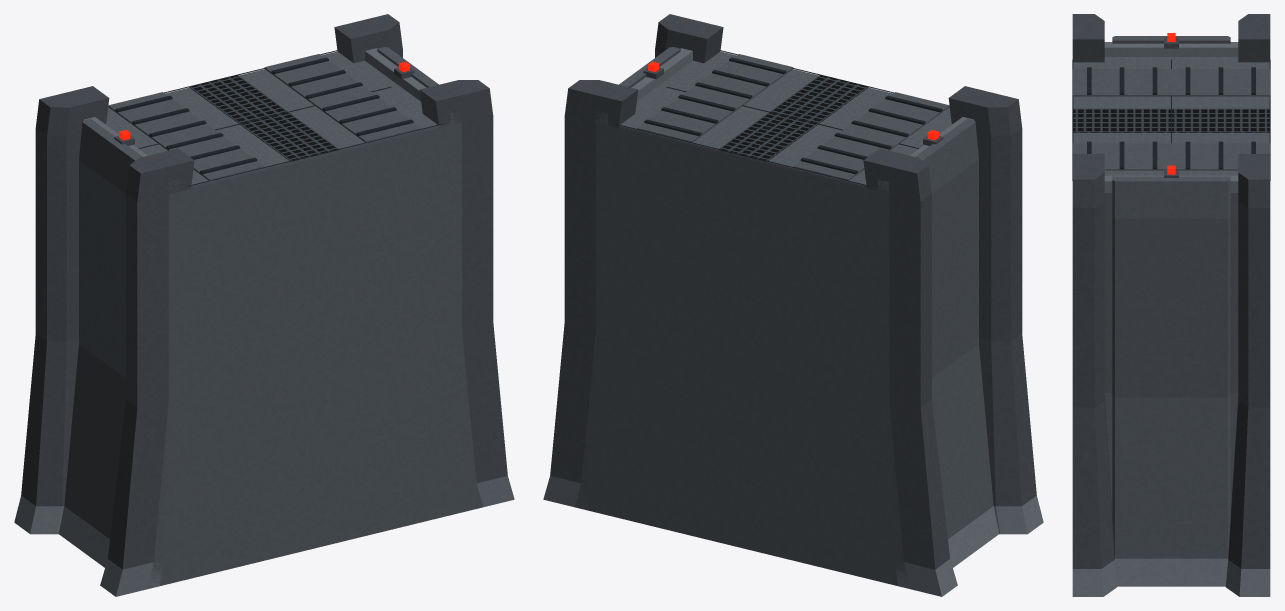
The model's file is half-bay.glb.
3 views of the same model, side by side, from view 1: azimuth 30°, elevation 25°; view 2: azimuth 150°, elevation 25°; view 3: azimuth 270°, elevation 25° (orthographic). The views are drawn at different scales.
Visible parts, largest first — view 1: half-bay-lod0-base0, half-bay-lod0-floor0, half-bay-lod0-roof0; view 2: half-bay-lod0-base0, half-bay-lod0-floor0, half-bay-lod0-roof0; view 3: half-bay-lod0-roof0, half-bay-lod0-base0, half-bay-lod0-floor0.
Part boxes in pixels (box(x1,y1,x2,y2)): half-bay-lod0-base0: box(14, 321, 514, 596); half-bay-lod0-floor0: box(35, 136, 493, 407); half-bay-lod0-roof0: box(35, 14, 493, 223); half-bay-lod0-base0: box(543, 321, 1043, 596); half-bay-lod0-floor0: box(564, 136, 1022, 407); half-bay-lod0-roof0: box(564, 14, 1022, 223); half-bay-lod0-roof0: box(1072, 14, 1270, 228); half-bay-lod0-base0: box(1072, 393, 1270, 596); half-bay-lod0-floor0: box(1072, 214, 1270, 407).
Size of what is drawn, in the model's own units: 40.8 by 40.8 by 18.08.
Materials: 7 (7 with a texture image).
